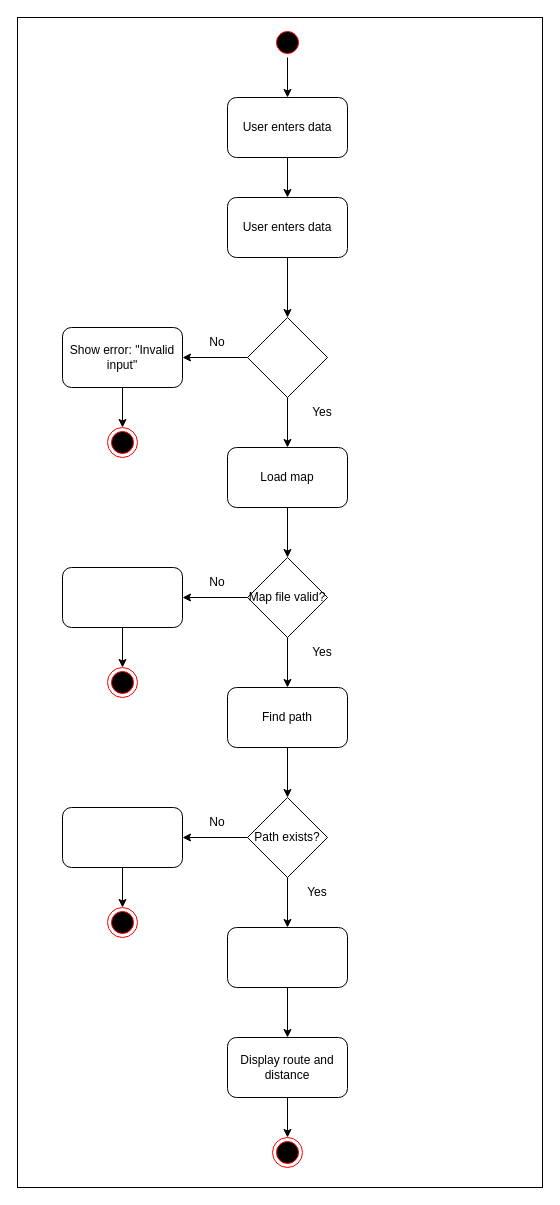
The diagram is 560 pixels wide and 1205 high, and some of its shapes have lost their labels. The shapes that lost their labels are listed below. From the top down, each one's centre as x and y in pixels, then its label:
(287,357): Input valid?
(122,597): Show error: "File not found"
(122,837): Show error: "Invalid destination"
(287,957): Update route
